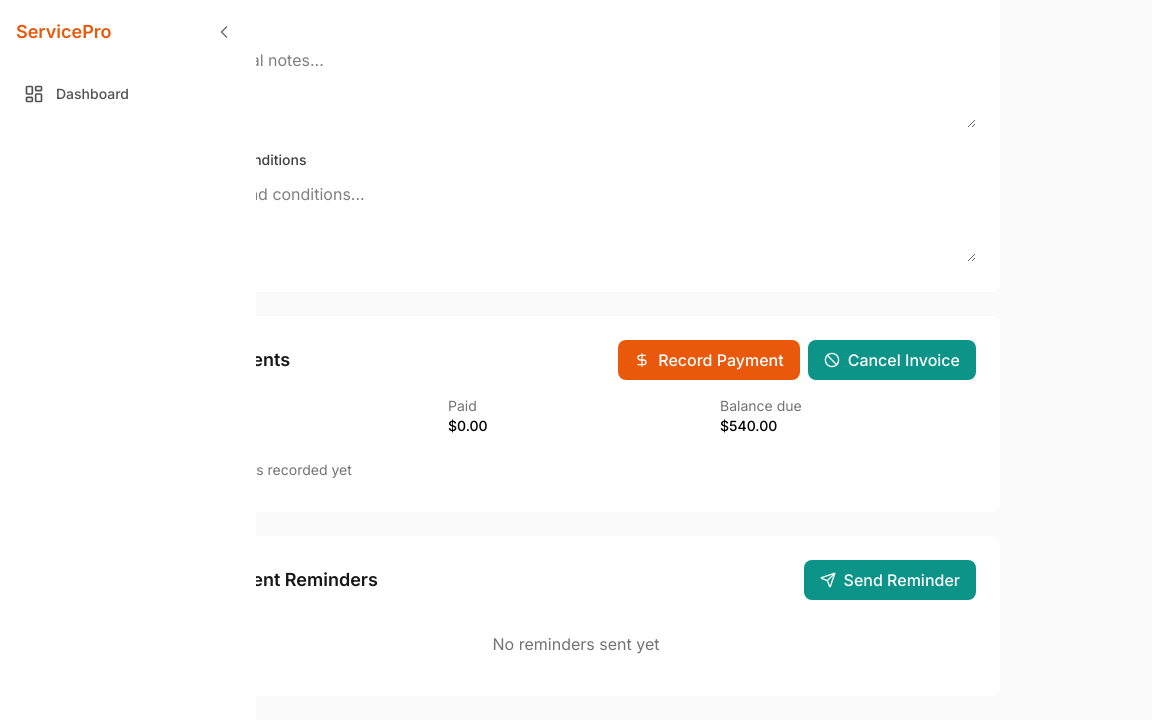
Invoice & Payment Integration › Payment Recording › shows the API reason for a rejected payment (400)
(page scrolled)
Click the button "Record Payment" at (709, 360), box [618,340,800,380]
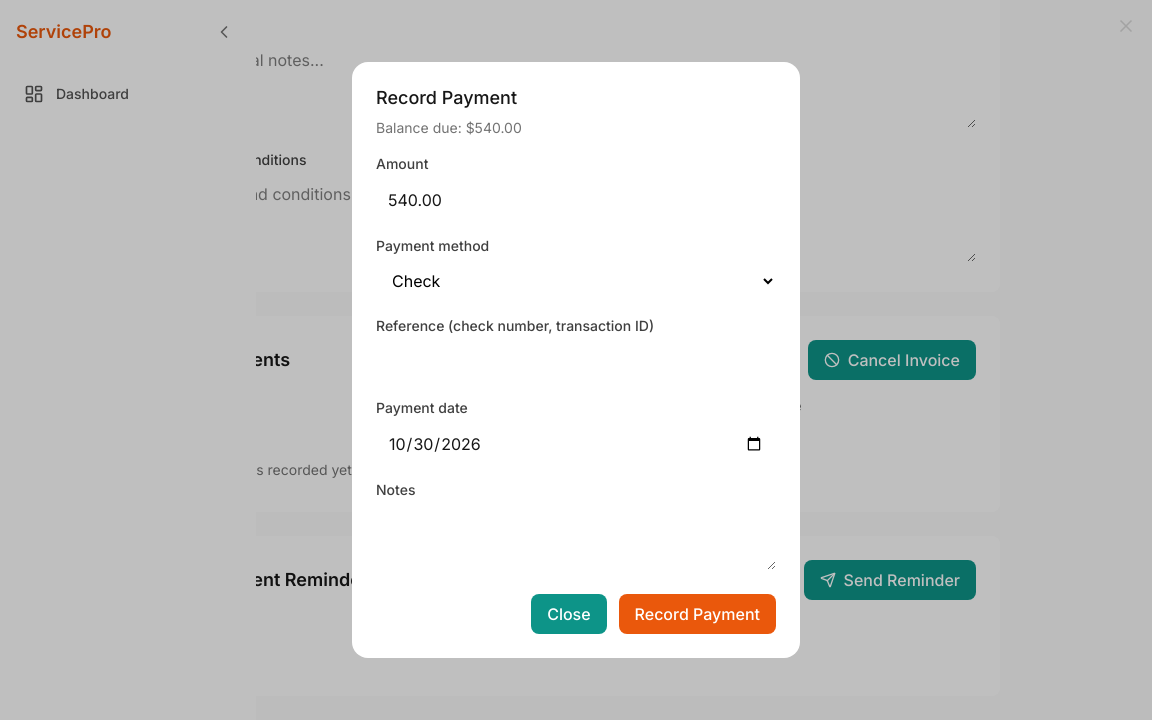
Click the button "Record Payment" at (697, 614), box [619,594,776,634]
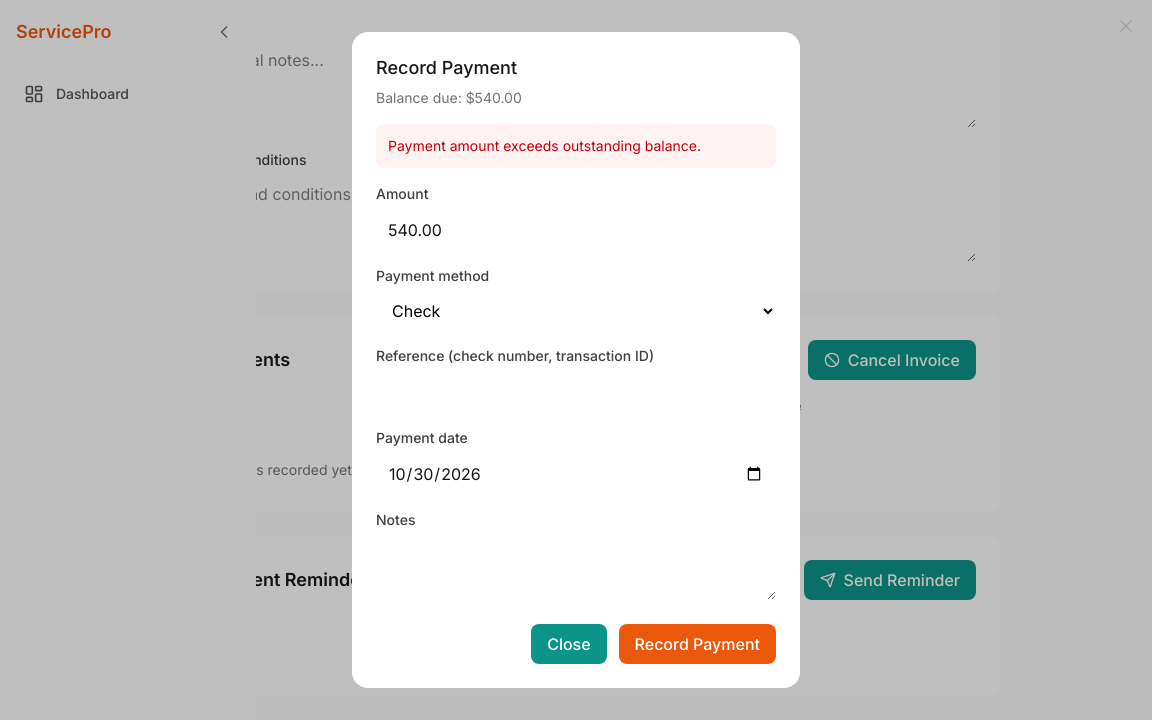
Result: the text "Payment amount exceeds outstanding balance." is shown at [376,124,776,168]
